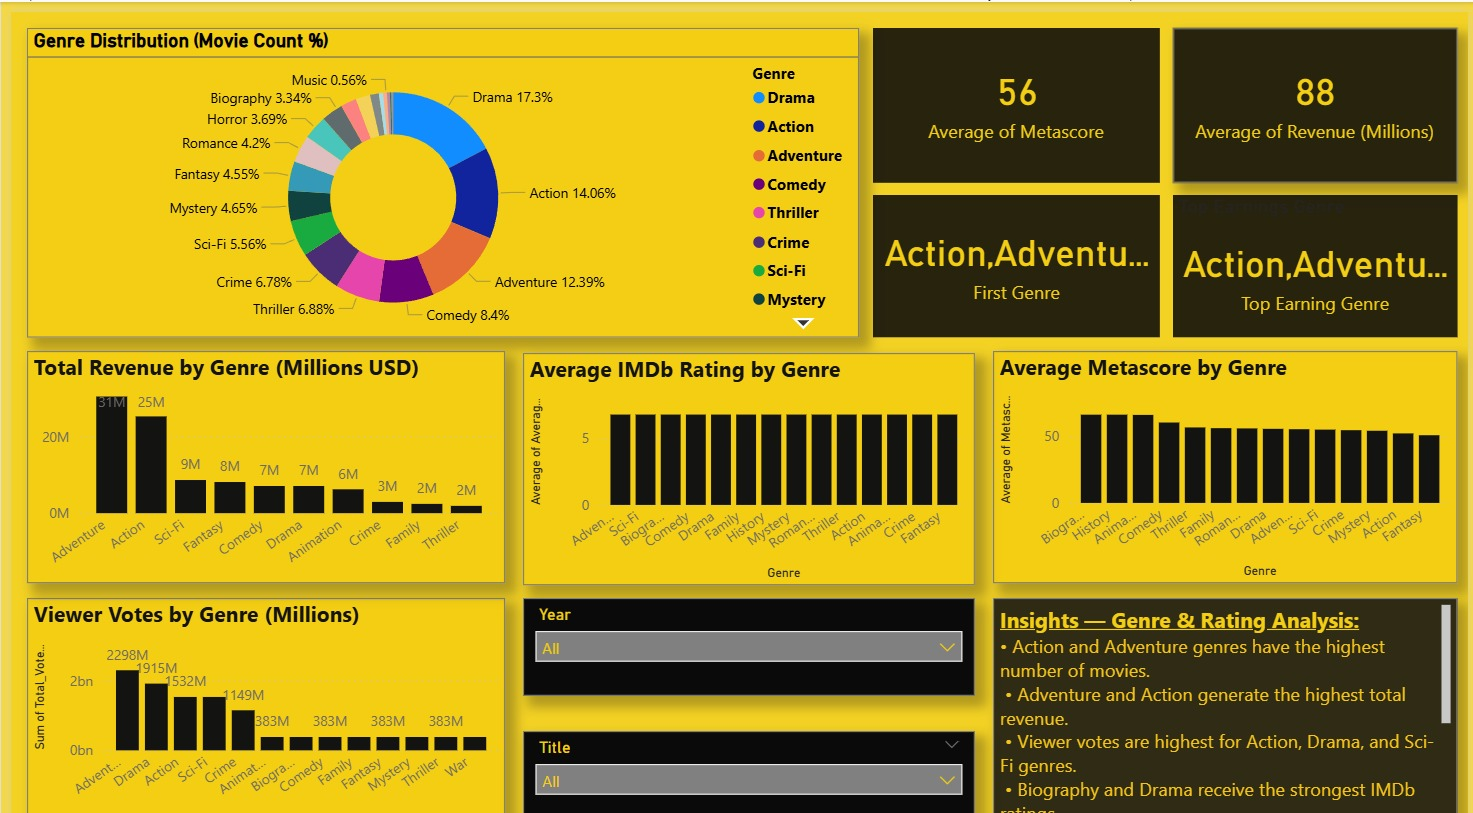

The dashboard page shown, as its layout file describes it:
{"tool":"powerbi","page":{"name":"Genre & Rating Analysis","canvas":[1280,720],"ordinal":1},"visuals":[{"type":"donutChart","title":"Genre Distribution (Movie Count %)","fields":{"Category":["Movie_Genre.Genre"],"Y":["Sum(Movie_Genre.Total_Movies_by_Genre)1"]},"box":[13.7,13.7,731.4,271.7],"z":0},{"type":"columnChart","title":"Viewer Votes by Genre (Millions)","fields":{"Category":["Movie_Genre.Genre"],"Y":["Sum(Movie_Genre.Total_Votes_by_Genre)"]},"box":[13.7,514.6,419.9,205.8],"z":1000},{"type":"columnChart","title":"Total Revenue by Genre (Millions USD)","fields":{"Category":["Movie_Genre.Genre"],"Y":["Sum(Movie_Genre.Total_Revenue_by_Genre)"]},"box":[13.7,297.8,419.9,204.5],"z":2000},{"type":"columnChart","title":"Average Metascore by Genre","fields":{"Category":["Movie_Genre.Genre"],"Y":["Avg(Movie_Genre.Metascore)"]},"box":[863.1,297.8,407.5,204.5],"z":3000},{"type":"columnChart","title":"Average IMDb Rating by Genre","fields":{"Category":["Movie_Genre.Genre"],"Y":["Avg(Movie_Genre.Average_Rating_by_Genre)"]},"box":[450.1,299.1,396.6,204.5],"z":4000},{"type":"slicer","fields":{"Values":["IMDB-Movie-Data.Year"]},"box":[450.1,514.6,396.6,86.4],"z":5000},{"type":"advanceCardE03760C5AB684758B56AA29F9E6C257B","fields":{"mainMeasure":["Avg(IMDB-Movie-Data.Revenue (Millions))"]},"box":[1020.9,13.7,249.7,135.8],"z":6000},{"type":"advanceCardE03760C5AB684758B56AA29F9E6C257B","fields":{"mainMeasure":["Avg(IMDB-Movie-Data.Metascore)"]},"box":[757.5,13.7,252.5,135.8],"z":7000},{"type":"advanceCardE03760C5AB684758B56AA29F9E6C257B","title":"Top Earnings Genre","fields":{"mainMeasure":["Min(IMDB-Movie-Data.Genre)"]},"box":[1020.9,160.5,249.7,124.9],"z":8000},{"type":"advanceCardE03760C5AB684758B56AA29F9E6C257B","fields":{"mainMeasure":["Min(IMDB-Movie-Data.Genre)"]},"box":[757.5,160.5,252.5,124.9],"z":9000},{"type":"slicer","fields":{"Values":["IMDB-Movie-Data.Title"]},"box":[450.1,631.2,396.6,89.2],"z":10000},{"type":"textbox","box":[863.1,514.6,407.5,205.8],"z":11000}]}

Visuals, with their boxes in screenshot pixels (x1, y1, x2, y2), scaled from the page's 1280x720 canvas onto the 1473x813 screenshot:
"Genre Distribution (Movie Count %)" donutChart: x1=16, y1=15, x2=857, y2=322
"Viewer Votes by Genre (Millions)" columnChart: x1=16, y1=581, x2=499, y2=812
"Total Revenue by Genre (Millions USD)" columnChart: x1=16, y1=336, x2=499, y2=567
"Average Metascore by Genre" columnChart: x1=993, y1=336, x2=1462, y2=567
"Average IMDb Rating by Genre" columnChart: x1=518, y1=338, x2=974, y2=569
slicer - IMDB-Movie-Data.Year: x1=518, y1=581, x2=974, y2=679
advanceCardE03760C5AB684758B56AA29F9E6C257B - Avg(IMDB-Movie-Data.Revenue (Millions)): x1=1175, y1=15, x2=1462, y2=169
advanceCardE03760C5AB684758B56AA29F9E6C257B - Avg(IMDB-Movie-Data.Metascore): x1=872, y1=15, x2=1162, y2=169
"Top Earnings Genre" advanceCardE03760C5AB684758B56AA29F9E6C257B: x1=1175, y1=181, x2=1462, y2=322
advanceCardE03760C5AB684758B56AA29F9E6C257B - Min(IMDB-Movie-Data.Genre): x1=872, y1=181, x2=1162, y2=322
slicer - IMDB-Movie-Data.Title: x1=518, y1=713, x2=974, y2=812
textbox: x1=993, y1=581, x2=1462, y2=812
